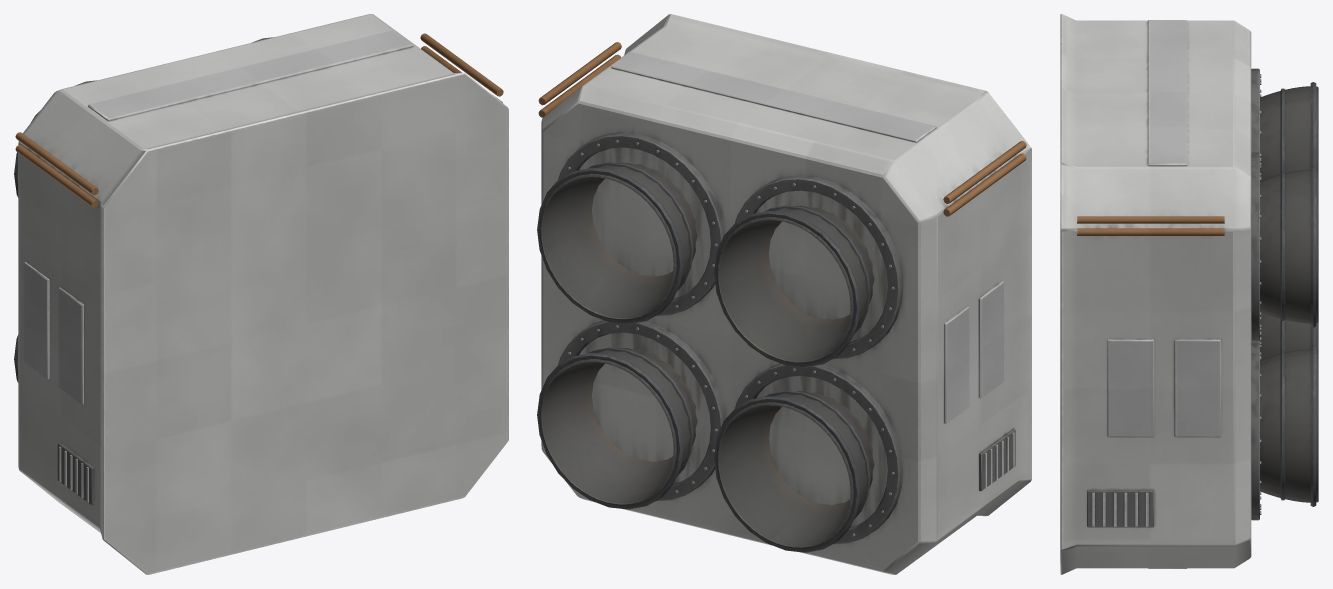
File: engineHousing.glb
3 renders of one model, left to right at view 1: azimuth 30°, elevation 25°; view 2: azimuth 150°, elevation 25°; view 3: azimuth 270°, elevation 25°, orthographic. The views are drawn at different scales.
Visible parts, largest first — view 1: engineHousing; view 2: engineHousing; view 3: engineHousing.
Boxes of the visible parts, box(x1,y1,x2,y2) form: engineHousing: box(14, 14, 508, 574); engineHousing: box(537, 14, 1031, 574); engineHousing: box(1060, 14, 1318, 574).
Bounding box in the file's own units: 13.74 × 13.56 × 7.71.
1 material, 1 textured.
